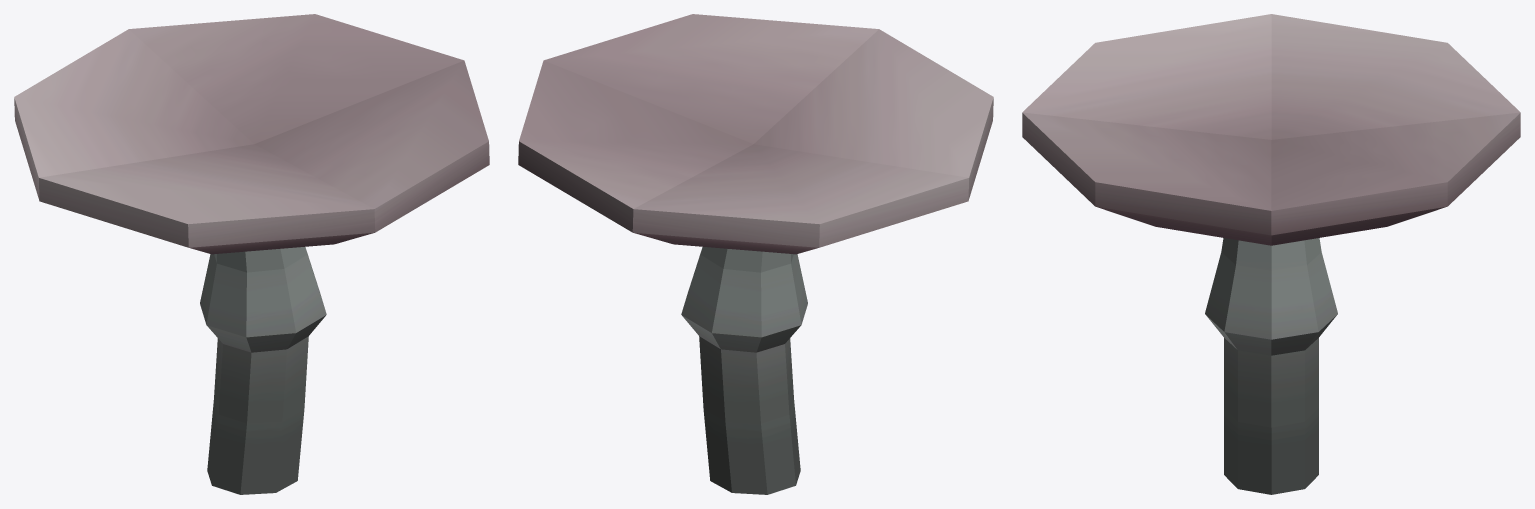
File: pack01_foliage_35.fbx
3 views of the same model, side by side, from view 1: azimuth 30°, elevation 25°; view 2: azimuth 150°, elevation 25°; view 3: azimuth 270°, elevation 25° (orthographic).
Visible parts, largest first — view 1: Mushroom_flat_white; view 2: Mushroom_flat_white; view 3: Mushroom_flat_white.
Boxes of the visible parts, box(x1,y1,x2,y2) form: Mushroom_flat_white: box(14, 14, 489, 494); Mushroom_flat_white: box(518, 14, 993, 494); Mushroom_flat_white: box(1022, 14, 1520, 494).
Size of the model in its own units: 36.86 by 30.04 by 36.81.
Materials: 1 (1 with a texture image).
